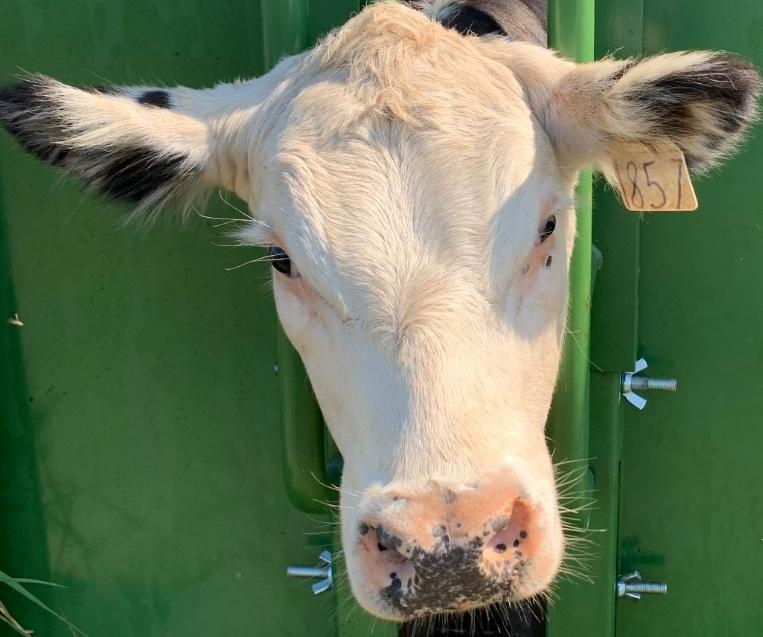muzzles: (331, 473, 573, 627)
